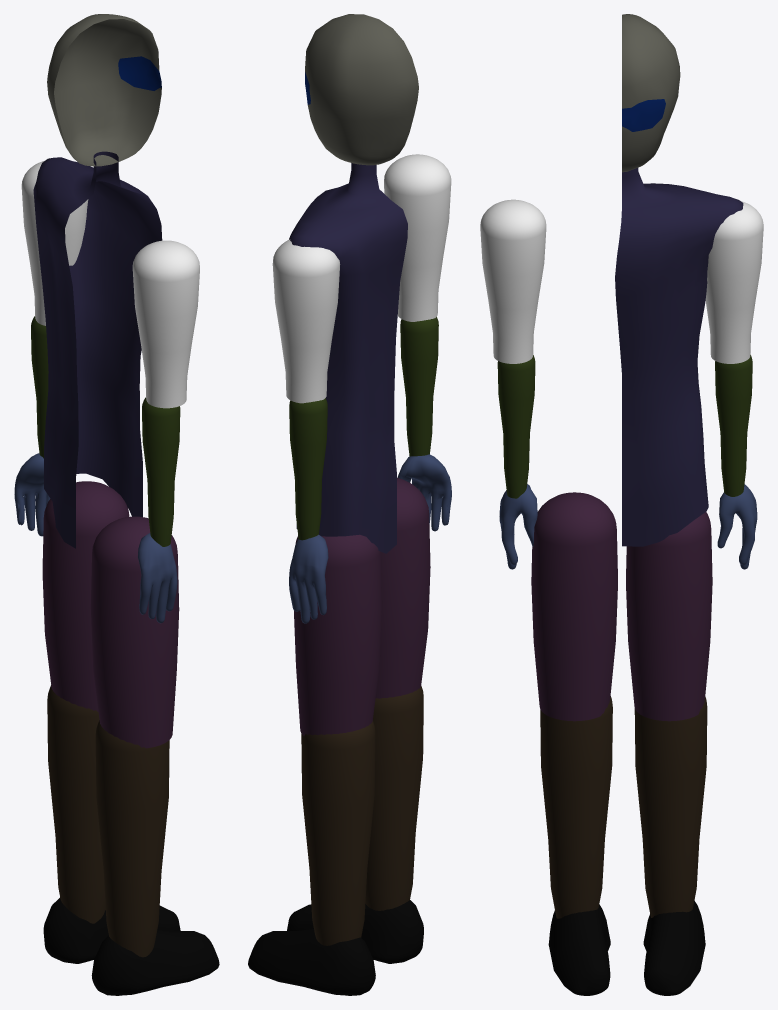
File: adam.glb
3 renders of one model, left to right at view 1: azimuth 30°, elevation 25°; view 2: azimuth 150°, elevation 25°; view 3: azimuth 270°, elevation 25°, orthographic. The views are drawn at different scales.
Visible parts, largest first — view 1: adam.body, adam.hip.r, adam.head, adam.knee.r, adam.hip.l, adam.knee.l, adam.shoulder.r, adam.foot.r, adam.elbow.r, adam.foot.l, adam.shoulder.l, adam.hand.r (+2 smaller); view 2: adam.body, adam.head, adam.hip.l, adam.knee.l, adam.knee.r, adam.hip.r, adam.shoulder.l, adam.shoulder.r, adam.foot.l, adam.elbow.l, adam.elbow.r, adam.foot.r (+2 smaller); view 3: adam.body, adam.hip.r, adam.hip.l, adam.knee.r, adam.knee.l, adam.shoulder.r, adam.shoulder.l, adam.head, adam.foot.l, adam.foot.r, adam.elbow.r, adam.elbow.l (+2 smaller).
Part boxes in pixels (x1,y1,x2,y2): adam.body: (33,151,162,548); adam.hip.r: (90,516,179,748); adam.head: (47,14,161,166); adam.knee.r: (95,720,169,957); adam.hip.l: (42,481,129,711); adam.knee.l: (47,685,105,923); adam.shoulder.r: (132,240,199,408); adam.foot.r: (91,929,219,995); adam.elbow.r: (142,397,180,546); adam.foot.l: (43,897,180,963); adam.shoulder.l: (21,160,88,325); adam.hand.r: (137,533,177,623); adam.body: (289,163,407,553); adam.head: (305,14,418,165); adam.hip.l: (294,534,382,735); adam.knee.l: (301,720,375,945); adam.knee.r: (365,686,423,910); adam.hip.r: (375,478,430,698); adam.shoulder.l: (272,239,340,403); adam.shoulder.r: (384,154,451,321); adam.foot.l: (248,929,375,995); adam.elbow.l: (289,398,327,540); adam.elbow.r: (400,317,438,456); adam.foot.r: (287,900,423,963); adam.body: (615,168,743,546); adam.hip.r: (531,492,617,721); adam.hip.l: (626,512,712,721); adam.knee.r: (540,696,612,918); adam.knee.l: (634,697,707,917); adam.shoulder.r: (480,199,546,363); adam.shoulder.l: (705,201,763,363); adam.head: (622,14,680,172); adam.foot.l: (643,900,705,995); adam.foot.r: (548,904,610,995); adam.elbow.r: (497,355,535,498); adam.elbow.l: (715,354,752,496).
Bounding box in the file's own units: 0.3463 × 2.19 × 0.6003.
